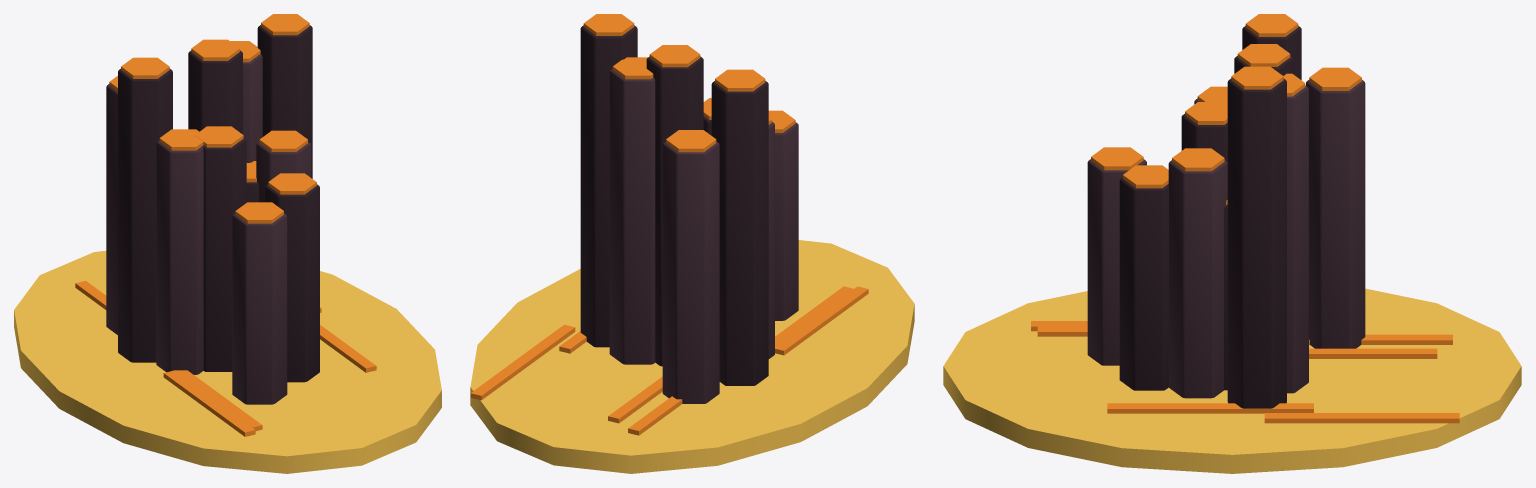
The model's file is LandBasalt.fbx.
The picture shows the model from 3 angles, left to right: view 1: azimuth 30°, elevation 25°; view 2: azimuth 150°, elevation 25°; view 3: azimuth 270°, elevation 25°; orthographic projection. The views are drawn at different scales.
Parts seen in each view (by area): view 1: LandBasalt; view 2: LandBasalt; view 3: LandBasalt.
Part boxes in pixels (x1,y1,x2,y2): LandBasalt: [14, 14, 441, 473]; LandBasalt: [470, 14, 914, 473]; LandBasalt: [943, 14, 1521, 473].
Bounding box in the file's own units: 800 × 724 × 1100.
